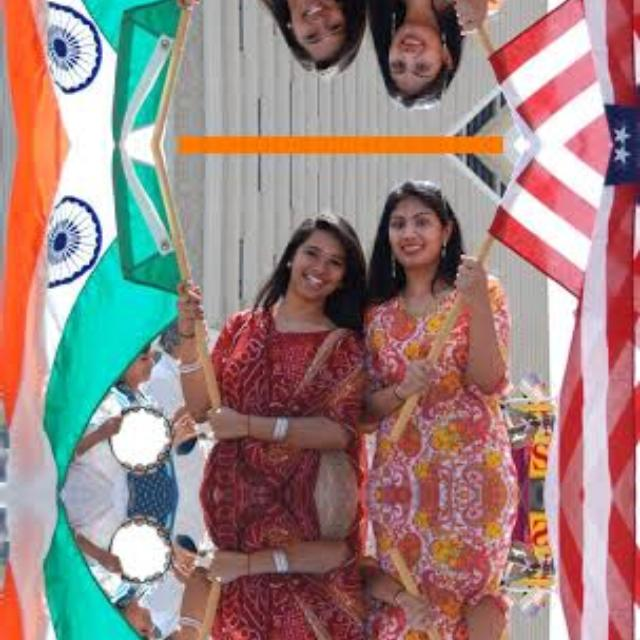person: (358, 181, 524, 495), (190, 195, 356, 495), (357, 494, 524, 640), (190, 494, 356, 640), (357, 0, 524, 107), (190, 0, 356, 93)
